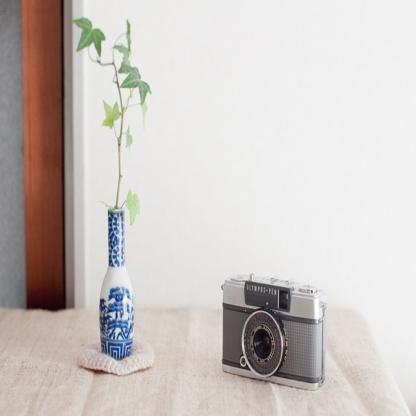Camera: (223, 269, 328, 390)
